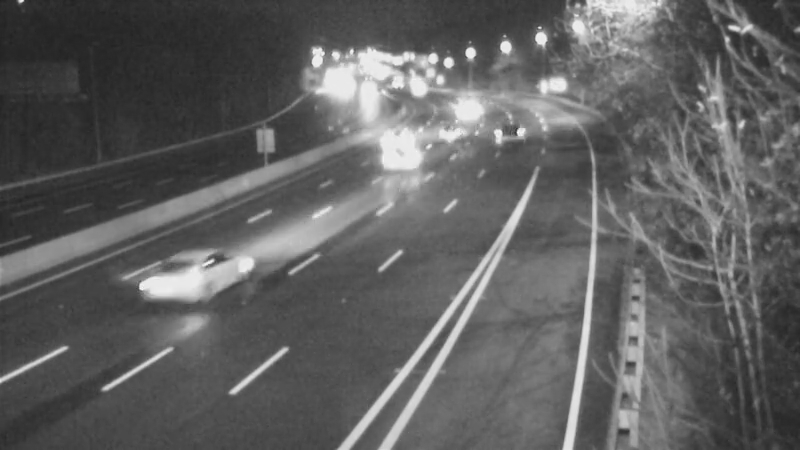vehicle: (366, 121, 446, 201), (158, 239, 238, 319), (441, 87, 491, 137), (435, 109, 485, 159), (480, 111, 530, 161), (368, 116, 418, 166), (339, 68, 389, 118)
